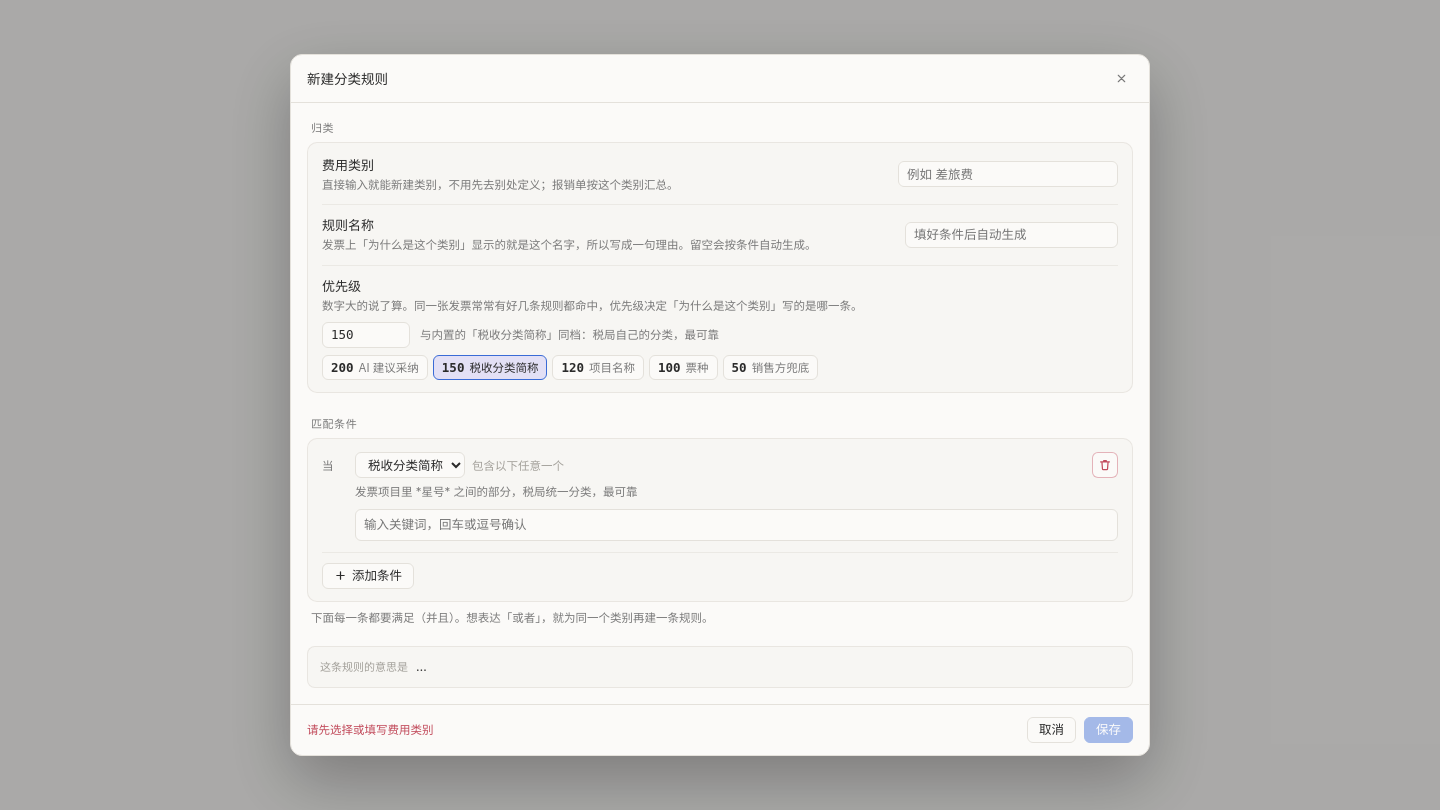
Test: RuleEditor › will not save a rule whose condition has no keywords
The image size is (1440, 810).
Type "住宿" into the field with placeholder "例如 差旅费" at (1008, 174), box [898,161,1118,187]
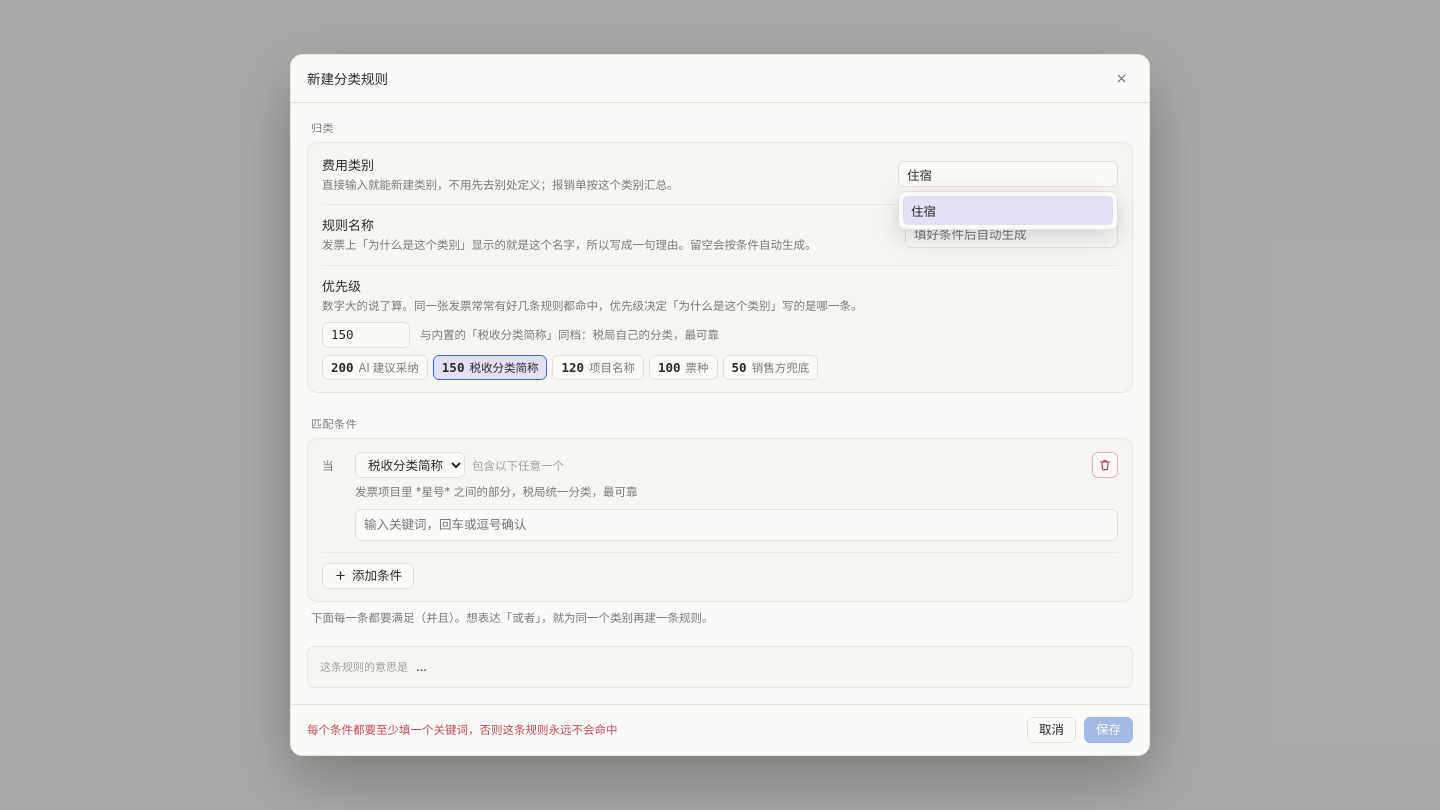
expect the button "保存" is disabled: met, box [1084,717,1133,743]
expect the text "每个条件都要至少填一个关键词，否则这条规则永远不会命中" is shown: met, box [307,722,618,739]
